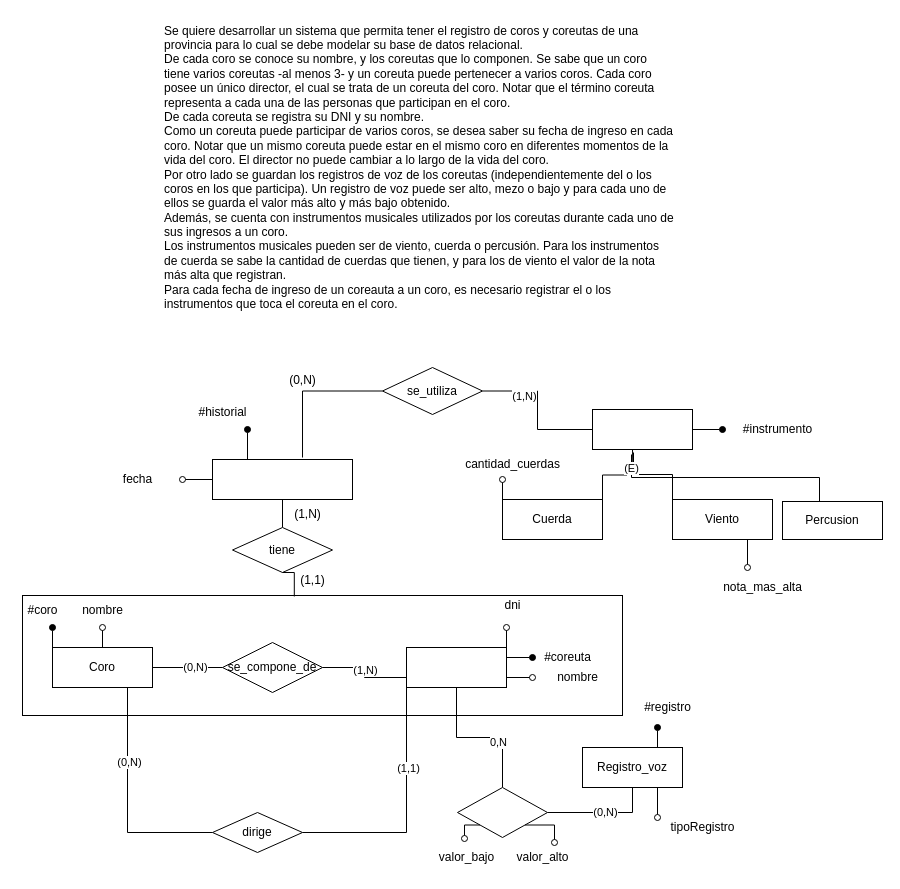
Image size: 900x889. Some labels were removed from this diagram. The centre of each missing label's shape, as x and y in pixels:
"Coreuta" goes at pixel 456 667.
"historial_particiopacion" goes at pixel 282 479.
"Instrumento" goes at pixel 642 429.
"posee" goes at pixel 502 812.
